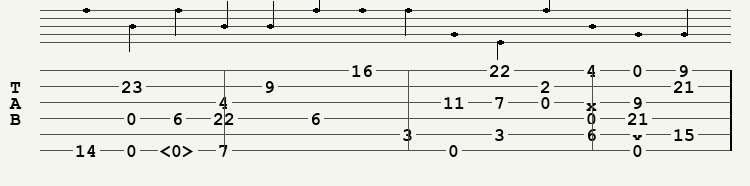0: (126, 110, 141, 126), (126, 142, 141, 158), (448, 142, 463, 158), (540, 94, 555, 110), (586, 110, 601, 126), (632, 142, 647, 158), (632, 62, 647, 78)
11: (443, 94, 469, 110)
14: (75, 142, 101, 158)
15: (673, 126, 699, 142)
16: (351, 62, 377, 78)
2: (540, 78, 555, 94)
21: (627, 110, 653, 126), (673, 78, 699, 94)
22: (213, 110, 239, 126), (489, 62, 515, 78)
23: (121, 78, 147, 94)
3: (402, 126, 417, 142), (494, 126, 509, 142)
4: (218, 94, 233, 110), (586, 62, 601, 78)
6: (172, 110, 187, 126), (310, 110, 325, 126), (586, 126, 601, 142)
7: (218, 142, 233, 158), (494, 94, 509, 110)
9: (264, 78, 279, 94), (632, 94, 647, 110), (678, 62, 693, 78)
harmonic: (160, 142, 199, 158)
x: (586, 96, 601, 108), (632, 128, 647, 140)
